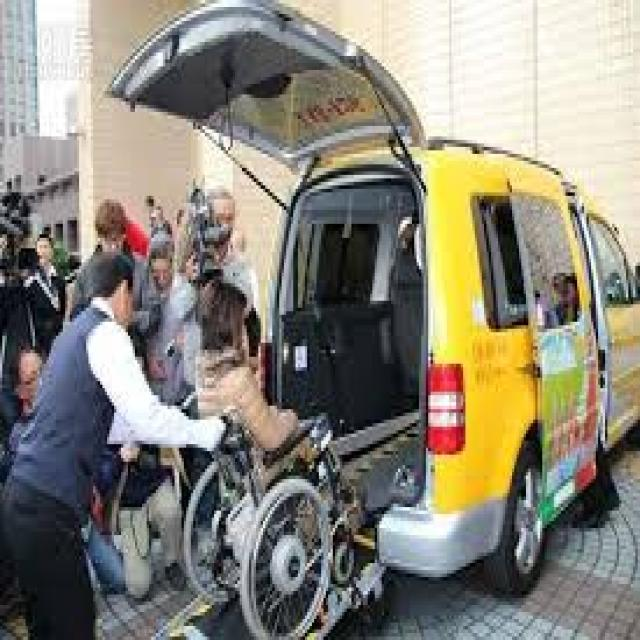wheelchairs: (154, 374, 370, 637)
